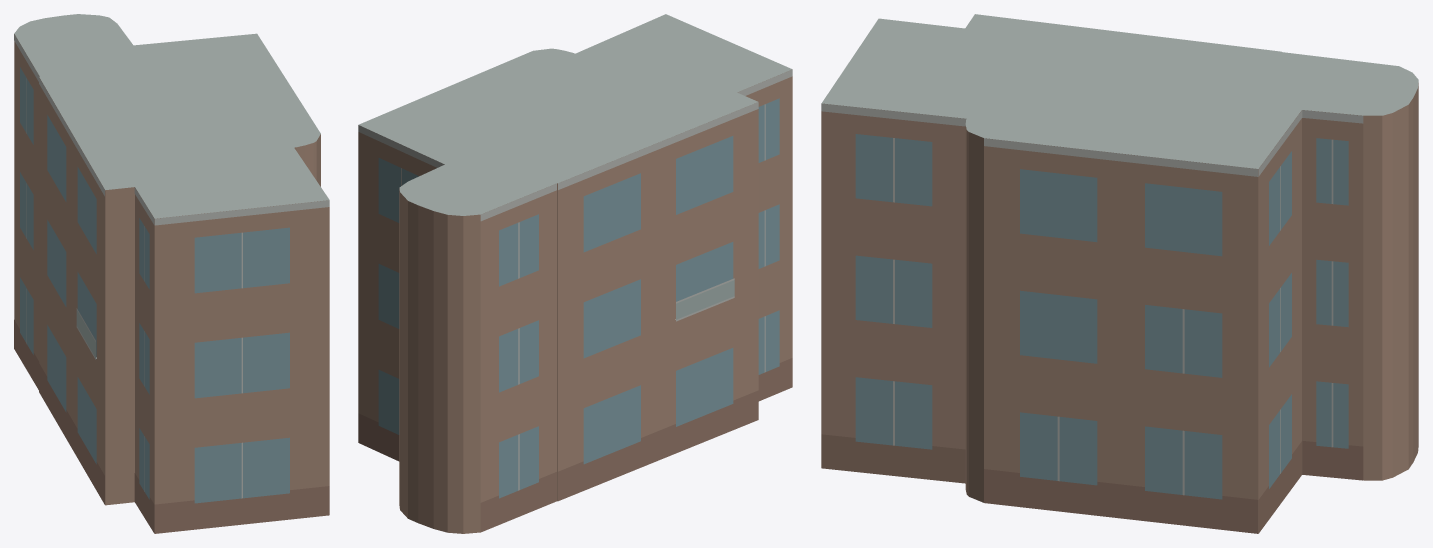
Rendered from survey-upis-32468479.glb.
3 renders of one model, left to right at view 1: azimuth 30°, elevation 25°; view 2: azimuth 150°, elevation 25°; view 3: azimuth 270°, elevation 25°, orthographic. The views are drawn at different scales.
Parts seen in each view (by area): view 1: survey-upis-32468479.tmp; view 2: survey-upis-32468479.tmp; view 3: survey-upis-32468479.tmp.
Part boxes in pixels (x1,y1,x2,y2): survey-upis-32468479.tmp: [14, 14, 329, 533]; survey-upis-32468479.tmp: [358, 14, 792, 533]; survey-upis-32468479.tmp: [821, 14, 1418, 533].
Size of the model in its own units: 10.22 by 11.2 by 16.62.
